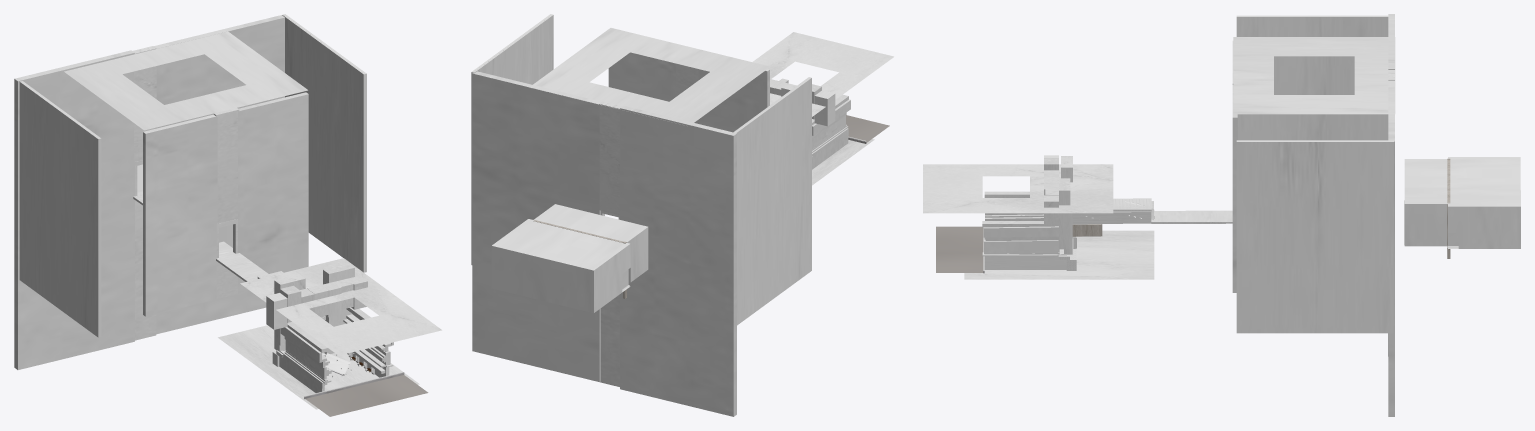
Rendered from yaw_okyere_darko_sips5blend55_lite.glb.
3 renders of one model, left to right at view 1: azimuth 30°, elevation 25°; view 2: azimuth 150°, elevation 25°; view 3: azimuth 270°, elevation 25°, orthographic. The views are drawn at different scales.
Parts seen in each view (by area): view 1: Cube.083, Cube.145, Cube.082, Cube.148, Cube.080, Plane.003, Cube.081, Plane.002, Plane.001, Plane, Cube.085, Cube.078 (+10 smaller); view 2: Cube.083, Cube.081, Cube.145, Cube.088, Plane.003, Plane.002, Cube.148, Cube.080, Cube.084, Cube.082, Cube.078, Plane.001 (+4 smaller); view 3: Cube.148, Cube.145, Cube.088, Plane.003, Plane.002, Plane.001, Plane, Cube.081, Cube.033, Cube.076, Cube.007, Cube.080 (+4 smaller).
Boxes of the visible parts, x1,y1,x2,y2 form: Cube.083: (14,50,134,369); Cube.145: (19,81,101,337); Cube.082: (143,114,217,316); Cube.148: (282,14,366,272); Cube.080: (238,92,308,293); Plane.003: (64,31,307,130); Cube.081: (154,15,284,334); Plane.002: (240,258,441,355); Plane.001: (218,325,419,409); Plane: (306,375,428,416); Cube.085: (213,108,239,223); Cube.078: (135,160,156,340); Cube.083: (620,105,736,416); Cube.081: (472,71,601,382); Cube.145: (733,77,811,325); Cube.088: (491,204,648,313); Plane.003: (533,28,770,122); Plane.002: (752,32,893,116); Cube.148: (471,14,553,264); Cube.080: (608,52,675,101); Cube.084: (599,101,621,215); Cube.082: (698,69,769,132); Cube.078: (600,210,619,386); Plane.001: (812,139,874,185); Cube.148: (1236,140,1393,333); Cube.145: (1236,15,1388,140); Cube.088: (1404,157,1520,248); Plane.003: (1233,37,1395,114); Plane.002: (923,164,1113,213); Plane.001: (964,230,1154,279); Plane: (936,226,983,272); Cube.081: (1388,80,1394,416); Cube.033: (984,252,1066,269); Cube.076: (1151,210,1232,223); Cube.007: (983,239,1059,253); Cube.080: (1232,85,1237,292).
Size of the model in its own units: 171 by 175 by 341.
106 materials, 46 textured.
